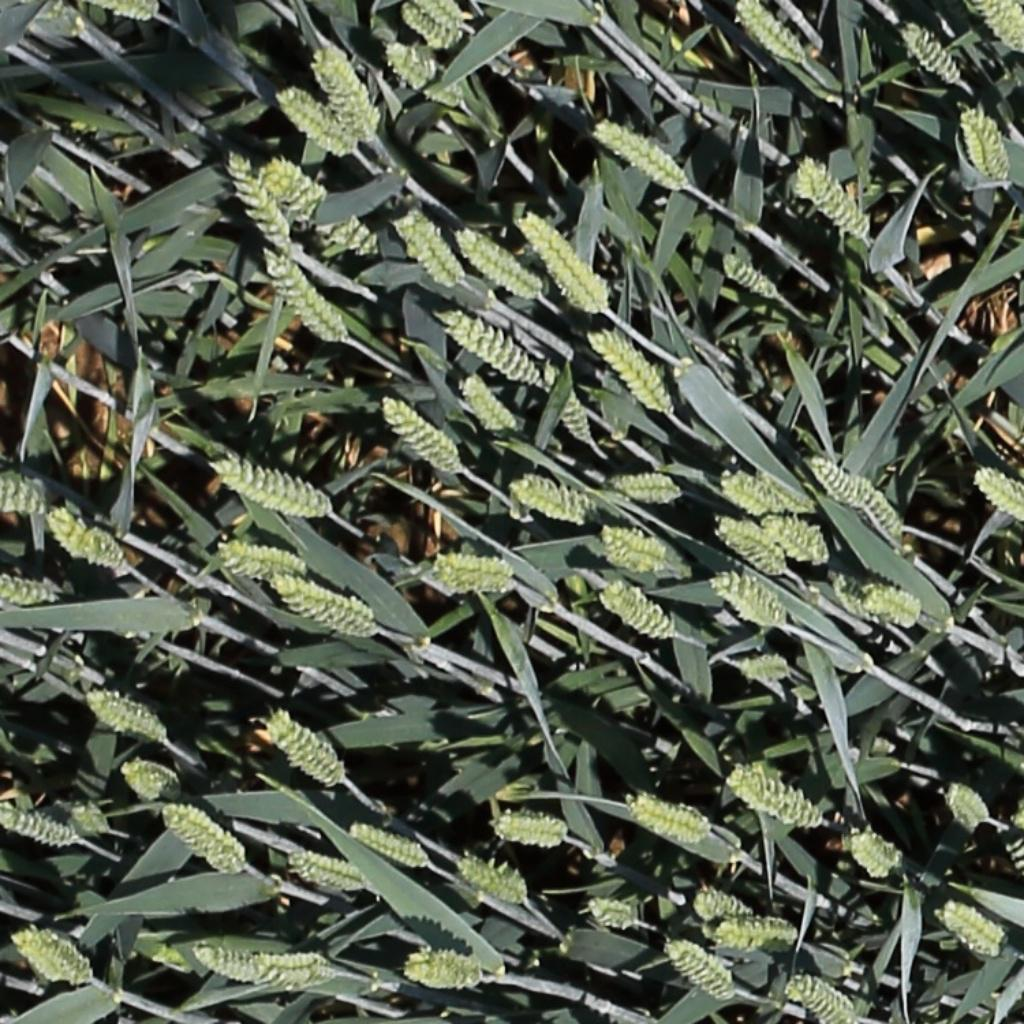0-0: (512, 208, 615, 316), (258, 244, 345, 345), (219, 147, 294, 260), (438, 307, 543, 386), (587, 327, 673, 416), (208, 457, 332, 518), (592, 117, 688, 195), (254, 708, 347, 787), (160, 800, 252, 877), (311, 40, 378, 140), (723, 764, 825, 829), (376, 395, 460, 473), (792, 158, 869, 242), (273, 582, 382, 640), (453, 226, 539, 296), (274, 87, 356, 158), (390, 206, 457, 289), (12, 923, 98, 986), (955, 101, 1013, 193), (506, 469, 601, 525), (623, 790, 716, 845), (842, 466, 905, 546), (597, 580, 676, 643), (602, 526, 694, 579), (661, 940, 737, 1002), (536, 363, 593, 443), (256, 158, 326, 223), (420, 547, 521, 592), (897, 19, 963, 87), (734, 1, 804, 65), (935, 897, 1005, 957), (712, 517, 785, 574), (382, 42, 450, 101), (708, 574, 785, 626), (285, 850, 377, 893), (84, 692, 163, 742), (344, 821, 428, 868), (456, 371, 517, 435), (217, 540, 312, 581), (249, 951, 338, 994), (455, 854, 530, 903), (742, 469, 820, 516), (827, 569, 891, 625), (761, 517, 831, 568), (403, 947, 488, 989), (709, 915, 802, 953), (802, 453, 865, 509), (845, 824, 905, 880), (860, 578, 926, 628), (190, 942, 257, 990), (779, 971, 858, 1011), (795, 979, 862, 1024), (0, 808, 77, 847), (488, 809, 569, 846), (396, 2, 461, 48), (115, 757, 180, 803), (719, 251, 779, 299), (973, 468, 1024, 524), (610, 470, 686, 507), (45, 503, 95, 558), (0, 568, 62, 612), (319, 210, 376, 257), (942, 780, 991, 834), (718, 464, 768, 516), (978, 1, 1024, 55), (689, 884, 754, 920), (81, 527, 134, 571), (583, 897, 643, 932), (737, 654, 800, 687), (0, 473, 45, 512), (63, 798, 111, 834), (86, 0, 162, 22), (414, 0, 466, 30), (504, 497, 539, 534)
